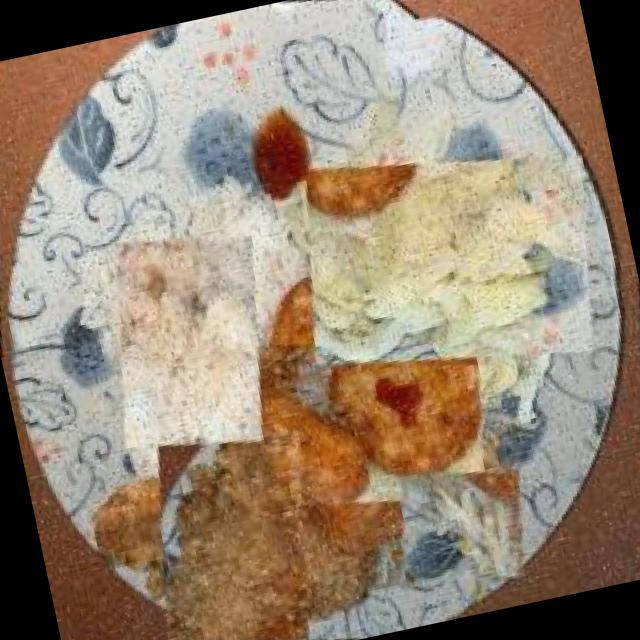chinese_cabbage: (288, 99, 610, 420)
fried_chicken: (106, 425, 361, 640)
mung_bean_sprouts: (386, 448, 538, 602)
rice: (83, 215, 296, 470)
triangle_hash_brown: (206, 278, 494, 564)
